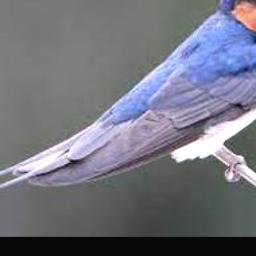Swallow: (0, 0, 256, 189)
